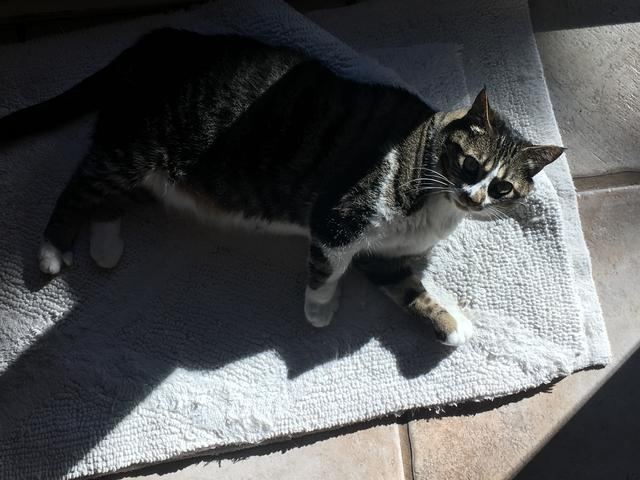playdoh: (1, 27, 569, 347)
